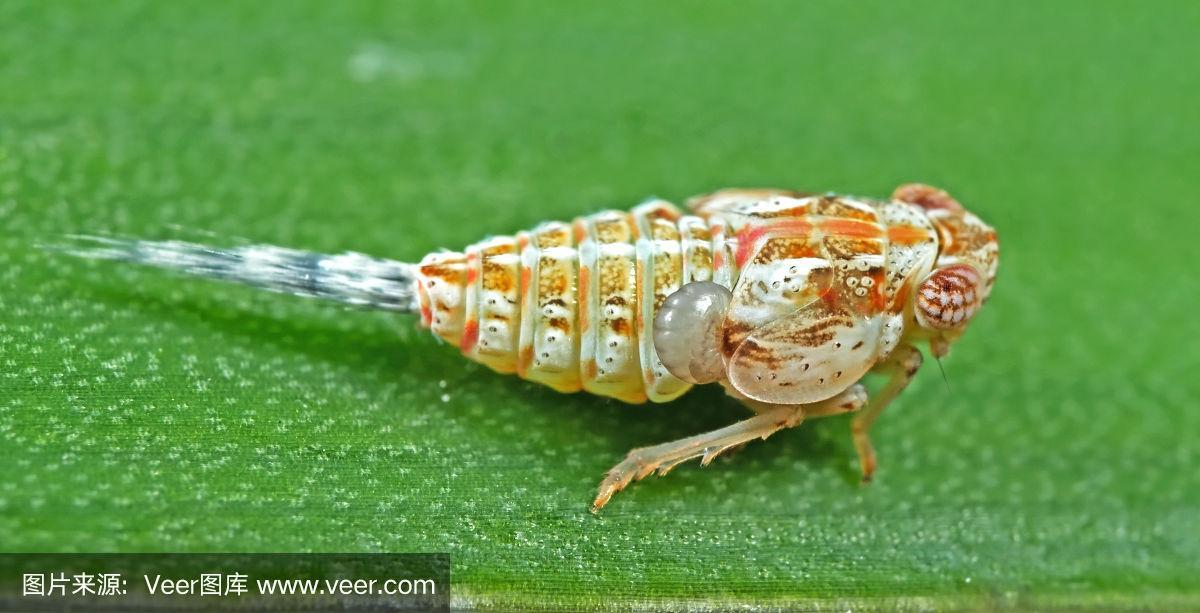Delphacidae: (30, 181, 1003, 517)
